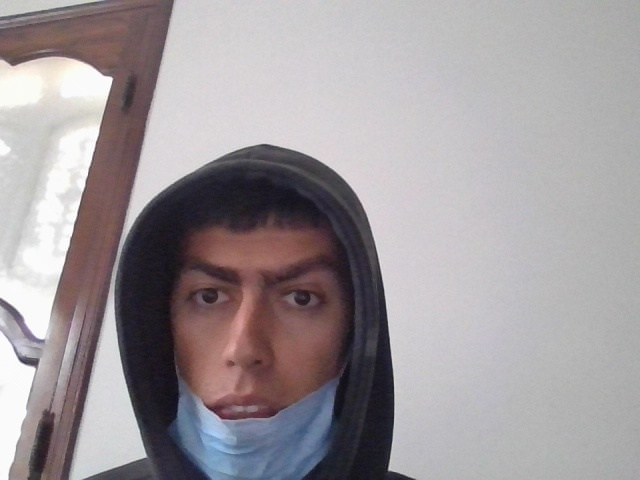mask_weared_incorrect: (169, 217, 349, 479)
